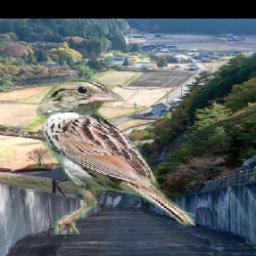Sparrow: (36, 80, 196, 235)
